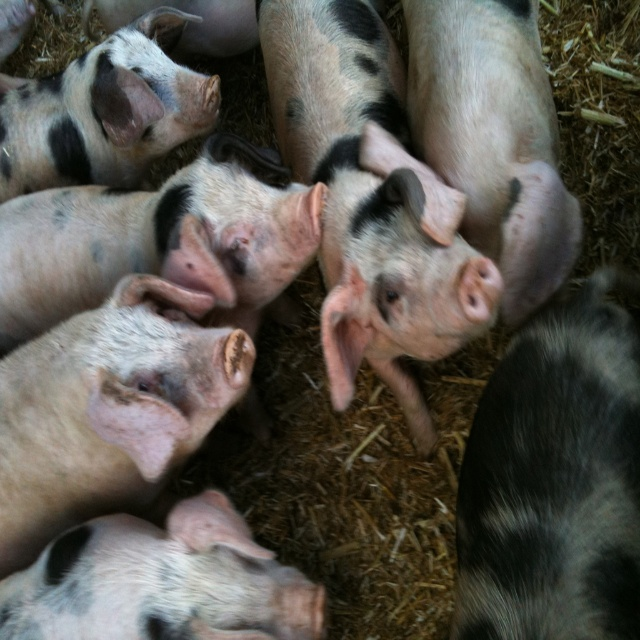Pig: (0, 0, 583, 639), (450, 266, 640, 639)
